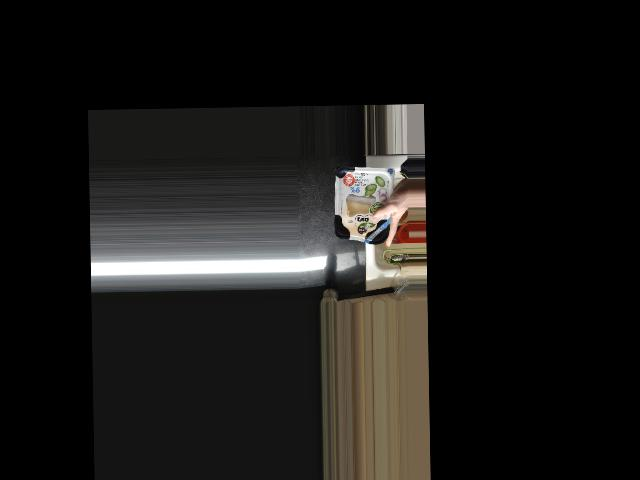cheese: (334, 168, 395, 245)
